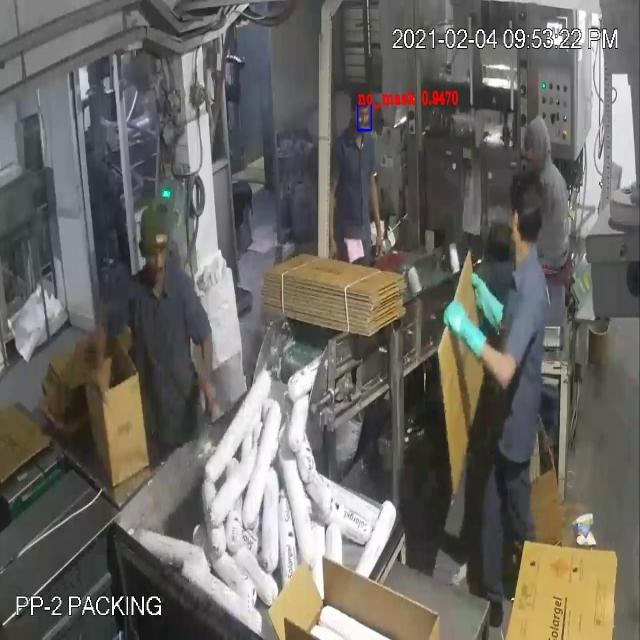gloves: (440, 280, 492, 378), (470, 268, 510, 340)
no-gloves: (86, 298, 120, 393), (319, 152, 345, 272), (364, 159, 392, 270), (198, 322, 220, 420)
